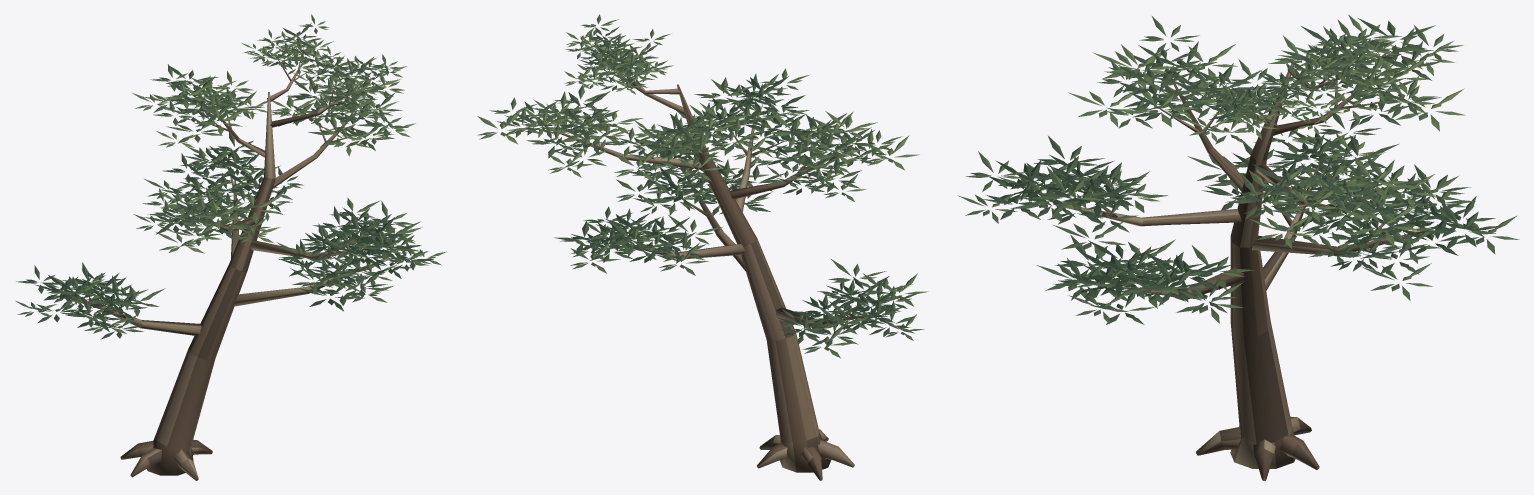
Rendered from coastal-pine.glb.
3 views of the same model, side by side, from view 1: azimuth 30°, elevation 25°; view 2: azimuth 150°, elevation 25°; view 3: azimuth 270°, elevation 25° (orthographic). The views are drawn at different scales.
Visible parts, largest first — view 1: Pine Leaf needle sprays, Pine Trunk and exposed roots, Pine scaffold Branches; view 2: Pine Leaf needle sprays, Pine Trunk and exposed roots, Pine scaffold Branches; view 3: Pine Leaf needle sprays, Pine Trunk and exposed roots, Pine scaffold Branches.
Part boxes in pixels (x1,y1,x2,y2): Pine Leaf needle sprays: (15, 14, 446, 339); Pine Trunk and exposed roots: (120, 92, 275, 480); Pine scaffold Branches: (68, 47, 390, 335); Pine Leaf needle sprays: (477, 14, 928, 358); Pine Trunk and exposed roots: (677, 84, 854, 480); Pine scaffold Branches: (542, 62, 870, 327); Pine Leaf needle sprays: (958, 14, 1519, 324); Pine Trunk and exposed roots: (1196, 60, 1319, 480); Pine scaffold Branches: (1039, 64, 1426, 299).
Bounding box in the file's own units: 5.2 × 4.67 × 4.57.
